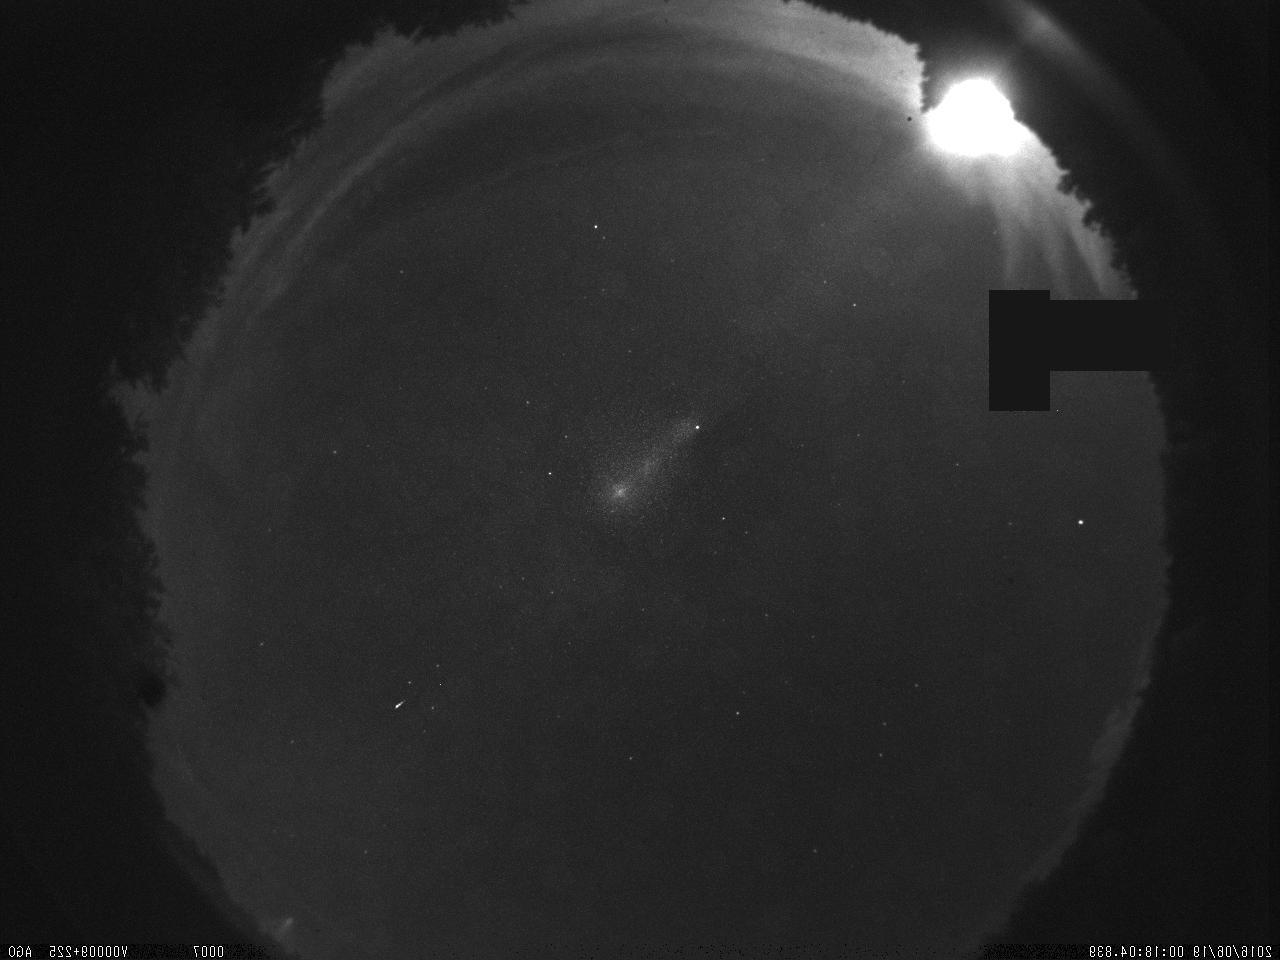meteor: (390, 697, 410, 711)
